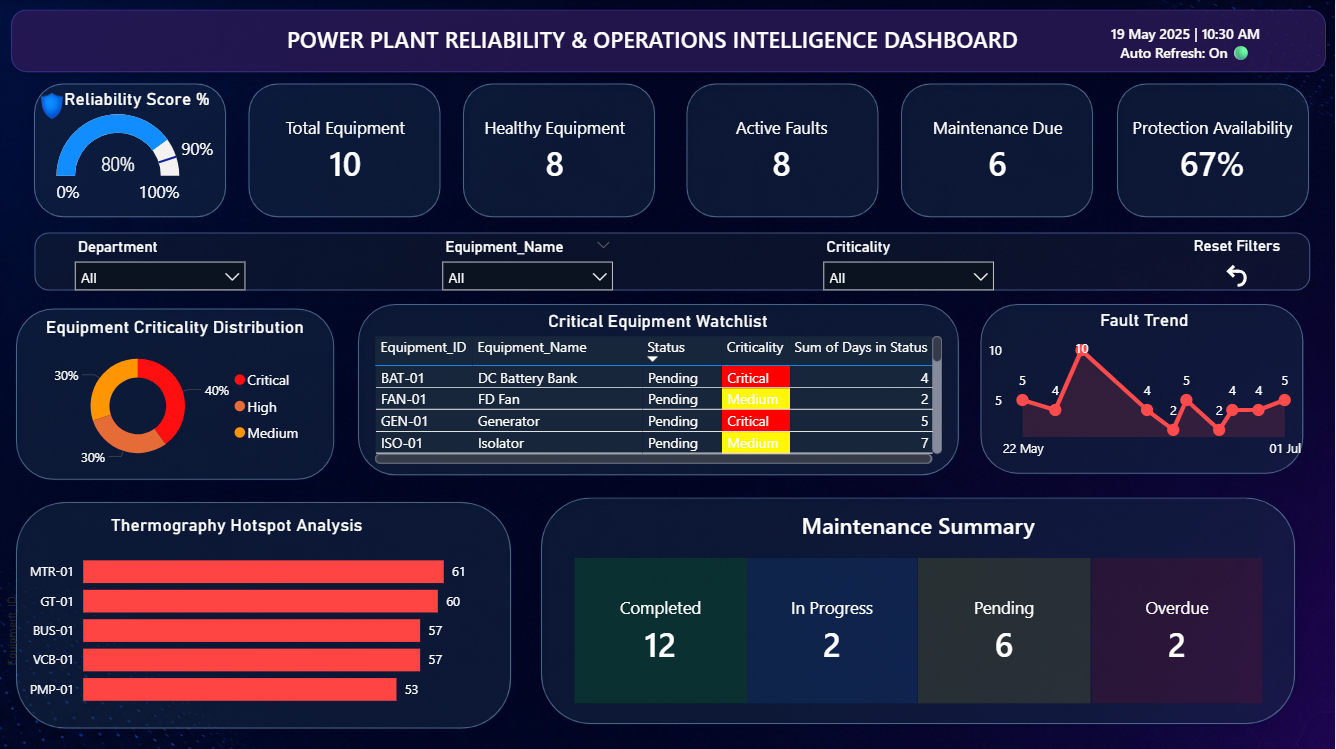

Layout of this report page (visuals, bound fields, positions):
{"tool":"powerbi","page":{"name":"Plant Overview ","canvas":[1280,720],"ordinal":0},"visuals":[{"type":"shape","box":[21.2,69.3,206.1,150.2],"z":0},{"type":"shape","box":[227.2,69.3,206.1,150.2],"z":1000},{"type":"shape","box":[433.3,69.3,206.1,150.2],"z":2000},{"type":"shape","box":[647.1,69.3,206.1,150.2],"z":3000},{"type":"shape","box":[853.1,69.3,206.1,150.2],"z":4000},{"type":"shape","box":[1.8,0,1278.8,78.2],"z":5000},{"type":"textbox","box":[104,17.3,1043.8,38.5],"z":6000},{"type":"textbox","box":[1030.3,17.3,213.8,52],"z":7000},{"type":"actionButton","box":[516.1,98.2,100.1,40.4],"z":8000},{"type":"shape","box":[1059.2,69.3,206.1,150.2],"z":9000},{"type":"gauge","fields":{"Y":["Equipment_Master.Reliability Score"]},"box":[48.5,84.8,165,119.6],"z":10000},{"type":"cardVisual","fields":{"Data":["Equipment_Master.Total Equipment"]},"box":[244.6,82.8,173.3,121.3],"z":11000},{"type":"cardVisual","fields":{"Data":["Equipment_Master.Protection Availability"]},"box":[1047.8,83.3,228.6,121.1],"z":12000},{"type":"cardVisual","fields":{"Data":["Equipment_Master.Healthy Equipment"]},"box":[433.3,82.8,198.4,121.3],"z":13000},{"type":"cardVisual","fields":{"Data":["Equipment_Master.Active Faults"]},"box":[666.3,82.8,167.5,121.3],"z":14000},{"type":"cardVisual","fields":{"Data":["Equipment_Master.Maintenance Due"]},"box":[860.8,82.8,190.7,121.3],"z":15000},{"type":"image","box":[34.7,84.7,30.8,34.7],"z":16000},{"type":"shape","box":[22.7,213.5,1243.2,75.7],"z":17000},{"type":"slicer","fields":{"Values":["Equipment_Master.Department"]},"box":[62.1,222.6,183.2,57.5],"z":18000},{"type":"slicer","fields":{"Values":["Equipment_Master.Equipment_Name"]},"box":[414.9,222.6,183.2,57.5],"z":19000},{"type":"slicer","fields":{"Values":["Equipment_Master.Criticality"]},"box":[779.8,222.6,183.2,57.5],"z":20000},{"type":"actionButton","title":"Reset Filters","box":[1128.1,227.1,116.6,53],"z":22000},{"type":"shape","box":[4.5,284.7,327.1,186.2],"z":23000},{"type":"donutChart","title":"Equipment Criticality Distribution","fields":{"Y":["CountNonNull(Equipment_Master.Equipment_ID)"],"Category":["Equipment_Master.Criticality"]},"box":[34.8,302.8,266.5,151.4],"z":24000},{"type":"shape","box":[331.6,280.1,598.1,186.2],"z":25000},{"type":"tableEx","title":"Critical Equipment Watchlist","fields":{"Values":["Equipment_Master.Equipment_ID","Equipment_Master.Equipment_Name","Maintenance_Log.Status","Equipment_Master.Criticality","Sum(Equipment_Master.Days_in_Status)"]},"box":[354.3,298.3,554.2,151.4],"z":26000},{"type":"shape","box":[929.7,280.1,331.6,184.7],"z":27000},{"type":"lineChart","title":"Fault Trend","fields":{"Y":["Trip_Fault_Log.Daily Fault Count"],"Category":["Trip_Fault_Log.Fault_Date"]},"box":[941.8,296.8,310.4,151.4],"z":28000},{"type":"shape","box":[4.5,470.9,496.7,239.2],"z":29000},{"type":"clusteredBarChart","title":"Thermography Hotspot Analysis","fields":{"Category":["Equipment_Master.Equipment_ID"],"Y":["Max(Thermography_Log.Rear_Temp)"]},"box":[1.5,493.6,451.2,195.3],"z":30000},{"type":"shape","box":[507.3,466.4,745,239.2],"z":31000},{"type":"cardVisual","fields":{"Data":["Maintenance_Log.Completed"]},"box":[551.2,534.5,165,139.3],"z":32000},{"type":"cardVisual","fields":{"Data":["Maintenance_Log.In Progress"]},"box":[716.2,534.5,163.5,139.3],"z":33000},{"type":"cardVisual","fields":{"Data":["Maintenance_Log.Pending"]},"box":[879.8,534.5,165,139.3],"z":34000},{"type":"cardVisual","fields":{"Data":["Maintenance_Log.Overdue"]},"box":[1046.3,534.5,163.5,139.3],"z":35000},{"type":"textbox","box":[575.4,483,610.2,51.5],"z":36000}]}

Visuals, with their boxes in screenshot pixels (x1, y1, x2, y2), scaled from the page's 1280x720 canvas onto the 1336x749 screenshot:
shape: pyautogui.locateOnScreen(22, 72, 237, 228)
shape: pyautogui.locateOnScreen(237, 72, 452, 228)
shape: pyautogui.locateOnScreen(452, 72, 667, 228)
shape: pyautogui.locateOnScreen(675, 72, 891, 228)
shape: pyautogui.locateOnScreen(890, 72, 1106, 228)
shape: pyautogui.locateOnScreen(2, 0, 1335, 81)
textbox: pyautogui.locateOnScreen(109, 18, 1198, 58)
textbox: pyautogui.locateOnScreen(1075, 18, 1299, 72)
actionButton: pyautogui.locateOnScreen(539, 102, 643, 144)
shape: pyautogui.locateOnScreen(1106, 72, 1321, 228)
gauge - Equipment_Master.Reliability Score: pyautogui.locateOnScreen(51, 88, 223, 213)
cardVisual - Equipment_Master.Total Equipment: pyautogui.locateOnScreen(255, 86, 436, 212)
cardVisual - Equipment_Master.Protection Availability: pyautogui.locateOnScreen(1094, 87, 1332, 213)
cardVisual - Equipment_Master.Healthy Equipment: pyautogui.locateOnScreen(452, 86, 659, 212)
cardVisual - Equipment_Master.Active Faults: pyautogui.locateOnScreen(695, 86, 870, 212)
cardVisual - Equipment_Master.Maintenance Due: pyautogui.locateOnScreen(898, 86, 1098, 212)
image: pyautogui.locateOnScreen(36, 88, 68, 124)
shape: pyautogui.locateOnScreen(24, 222, 1321, 301)
slicer - Equipment_Master.Department: pyautogui.locateOnScreen(65, 232, 256, 291)
slicer - Equipment_Master.Equipment_Name: pyautogui.locateOnScreen(433, 232, 624, 291)
slicer - Equipment_Master.Criticality: pyautogui.locateOnScreen(814, 232, 1005, 291)
"Reset Filters" actionButton: pyautogui.locateOnScreen(1177, 236, 1299, 291)
shape: pyautogui.locateOnScreen(5, 296, 346, 490)
"Equipment Criticality Distribution" donutChart: pyautogui.locateOnScreen(36, 315, 314, 472)
shape: pyautogui.locateOnScreen(346, 291, 970, 485)
"Critical Equipment Watchlist" tableEx: pyautogui.locateOnScreen(370, 310, 948, 468)
shape: pyautogui.locateOnScreen(970, 291, 1316, 484)
"Fault Trend" lineChart: pyautogui.locateOnScreen(983, 309, 1307, 466)
shape: pyautogui.locateOnScreen(5, 490, 523, 739)
"Thermography Hotspot Analysis" clusteredBarChart: pyautogui.locateOnScreen(2, 513, 473, 717)
shape: pyautogui.locateOnScreen(529, 485, 1307, 734)
cardVisual - Maintenance_Log.Completed: pyautogui.locateOnScreen(575, 556, 748, 701)
cardVisual - Maintenance_Log.In Progress: pyautogui.locateOnScreen(748, 556, 918, 701)
cardVisual - Maintenance_Log.Pending: pyautogui.locateOnScreen(918, 556, 1091, 701)
cardVisual - Maintenance_Log.Overdue: pyautogui.locateOnScreen(1092, 556, 1263, 701)
textbox: pyautogui.locateOnScreen(601, 502, 1237, 556)
